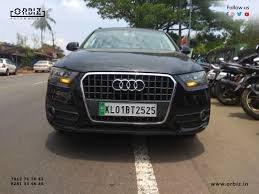Liscence Plate: (99, 103, 160, 119)
